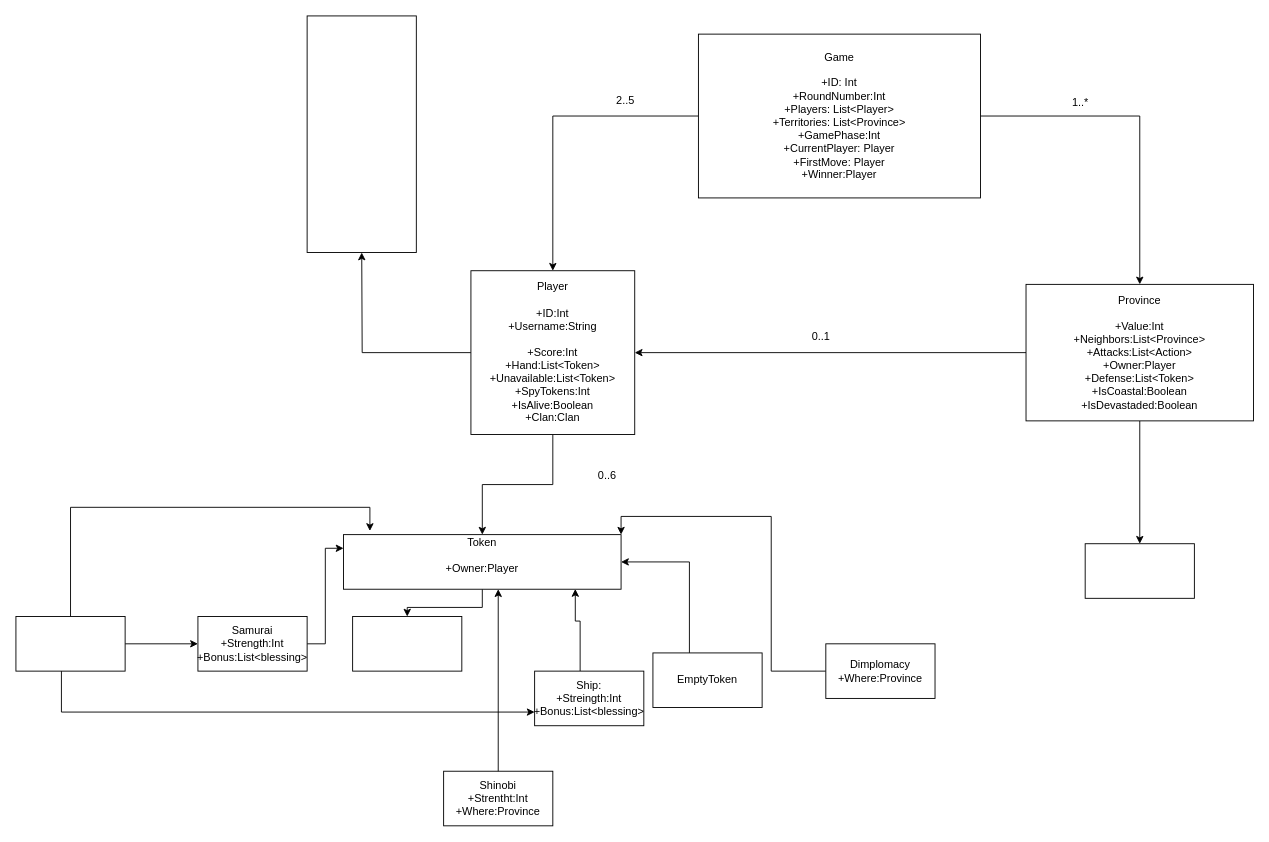
Image size: 1269x842. Some labels were removed from this diagram. The shapes that lost their labels are listed below. From the top down, each one's centre as x and y in pixels, then its label:
At (361,134): "Clan CRAB CRANE DRAGON LION PHOENIX SCORPION UNICORN".
At (1139,570): "Action +Target:Province +Atacker:<Token>".
At (70,643): "blessing +Strenth:Int".
At (407,643): "Devastasion +Where:Province".
